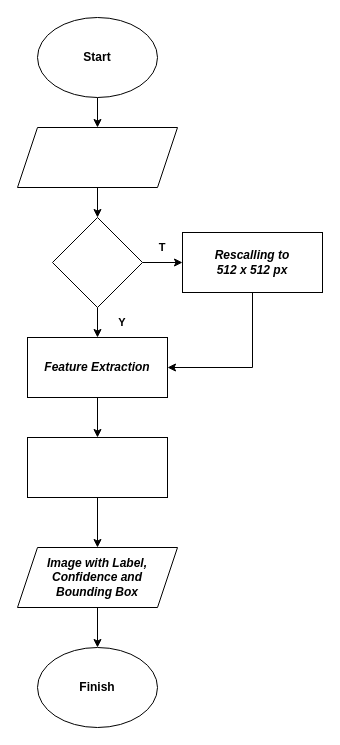
Some shapes in this 340 by 745 pixel diagram are drawn without their labels. The centre of each missing label's shape, as x and y in pixels:
"512 x 512 px" belongs at point 97,262.
"Detection" belongs at point 97,467.
"Input Image" belongs at point 97,157.
